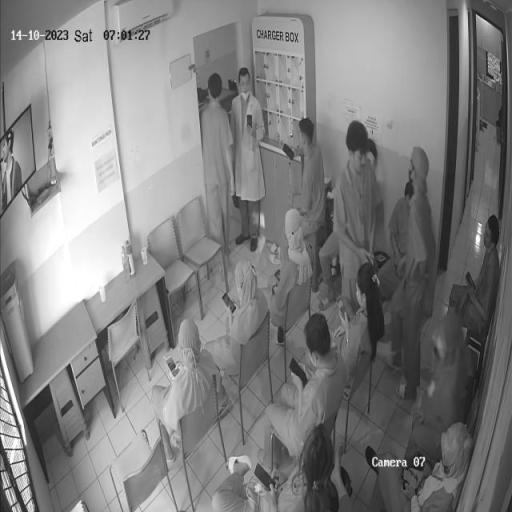person: (260, 314, 348, 473), (213, 423, 334, 512), (152, 320, 219, 463), (206, 263, 267, 409), (335, 124, 380, 319), (375, 422, 472, 512), (399, 147, 433, 397), (327, 264, 386, 396), (202, 74, 238, 281), (231, 68, 268, 252), (451, 215, 501, 341), (263, 209, 313, 332), (297, 118, 327, 264)
